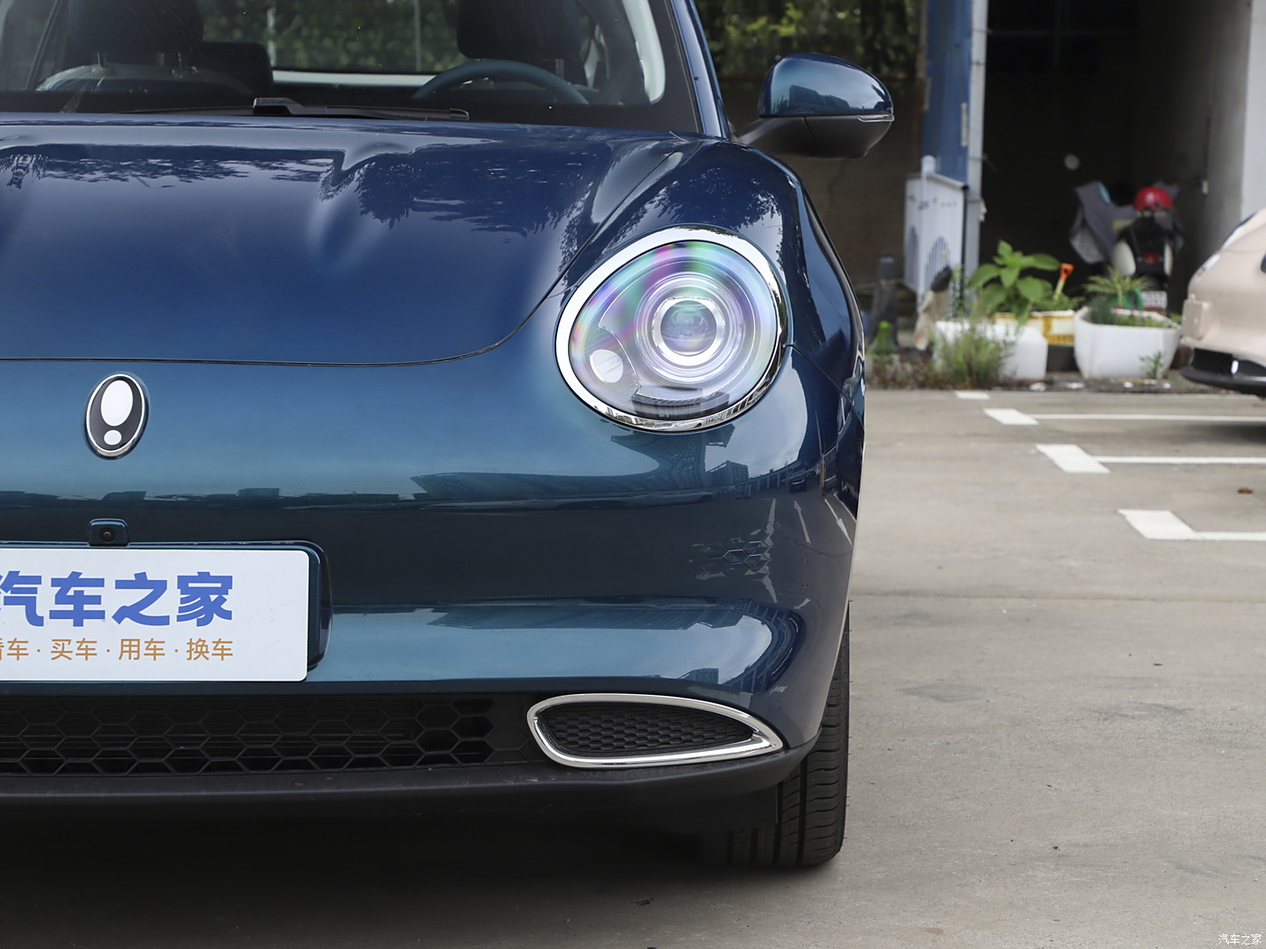ORA: (87, 375, 145, 456)
